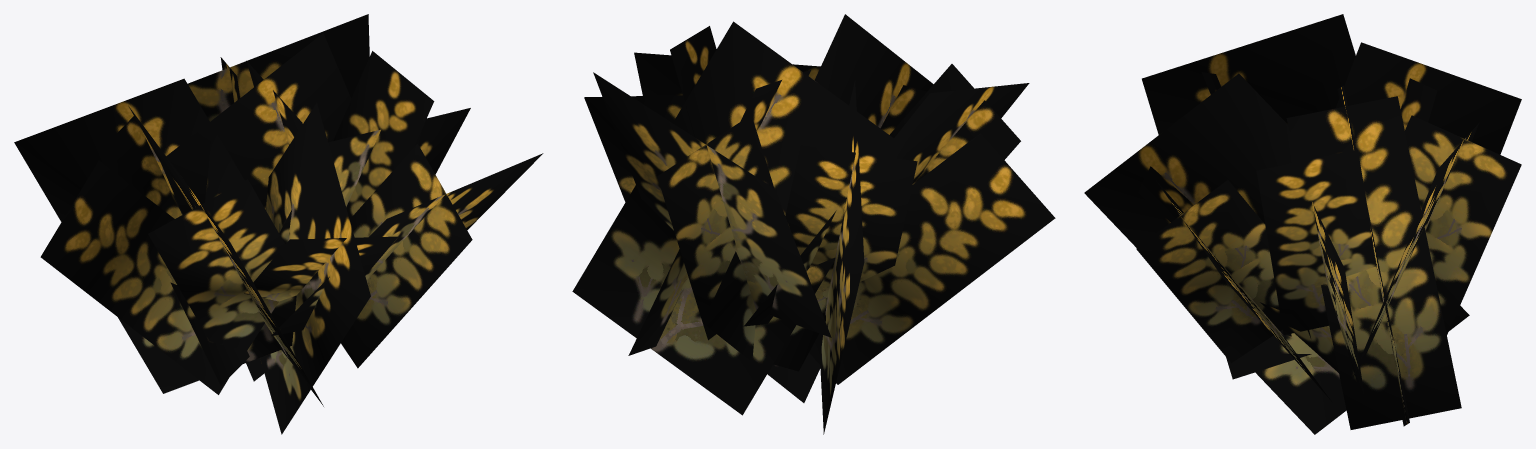
Rendered from P_DesertBush02.obj.
3 renders of one model, left to right at view 1: azimuth 30°, elevation 25°; view 2: azimuth 150°, elevation 25°; view 3: azimuth 270°, elevation 25°, orthographic.
Size of the model in its own units: 4.25 by 3.32 by 3.5.
